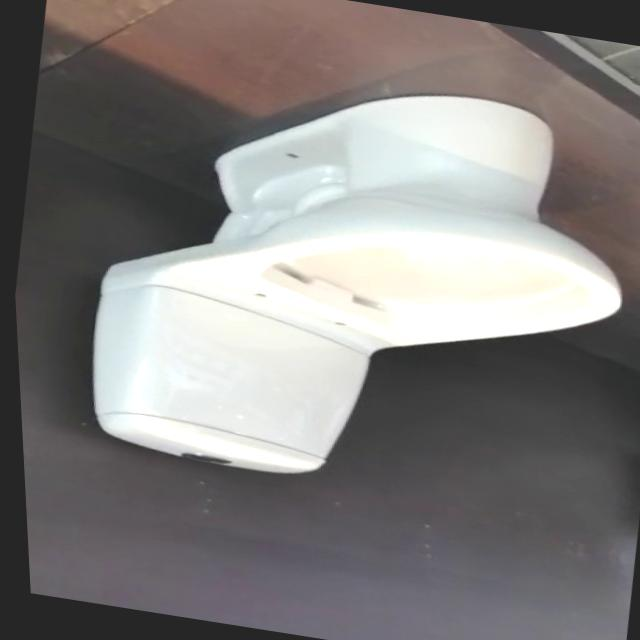toilet: (59, 42, 640, 526)
